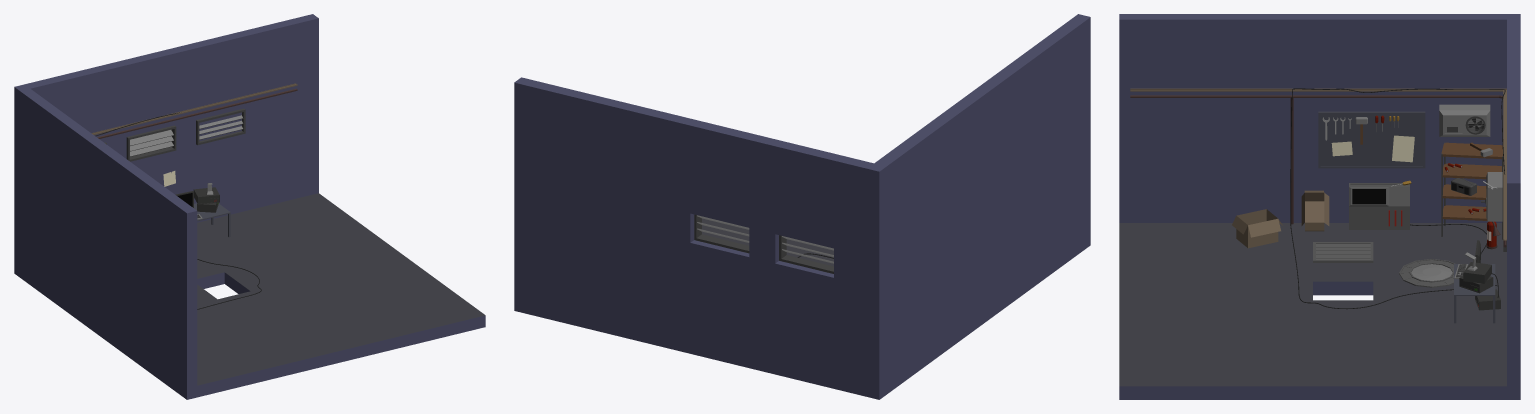
Rendered from workshop-extended.glb.
3 views of the same model, side by side, from view 1: azimuth 30°, elevation 25°; view 2: azimuth 150°, elevation 25°; view 3: azimuth 270°, elevation 25° (orthographic). The views are drawn at different scales.
Parts seen in each view (by area): view 1: Walls, Vent.001, Vent.002, Cube.015, Pipes; view 2: Walls, Vent.001, Vent; view 3: Walls, Sideboard, Shelf, Wallcharger, Cube.015, AC, Pipes, Box.001, Platform, Syphon, Box, BezierCurve (+5 smaller).
Boxes of the visible parts, <box> form: Walls: <box>14,14,485,399</box>; Vent.001: <box>126,125,176,161</box>; Vent.002: <box>196,108,245,145</box>; Cube.015: <box>91,83,297,134</box>; Pipes: <box>97,88,297,138</box>; Walls: <box>514,14,1090,399</box>; Vent.001: <box>694,214,749,253</box>; Vent: <box>779,235,833,273</box>; Walls: <box>1119,14,1520,399</box>; Sideboard: <box>1318,111,1425,168</box>; Shelf: <box>1441,142,1503,239</box>; Wallcharger: <box>1349,183,1409,229</box>; Cube.015: <box>1130,88,1506,240</box>; AC: <box>1439,104,1490,136</box>; Pipes: <box>1130,95,1506,247</box>; Box.001: <box>1232,209,1282,248</box>; Platform: <box>1399,259,1455,287</box>; Syphon: <box>1313,242,1373,262</box>; Box: <box>1301,190,1329,231</box>; BezierCurve: <box>1290,88,1505,309</box>.
Size of the model in its own units: 10.26 by 6.13 by 10.28.
